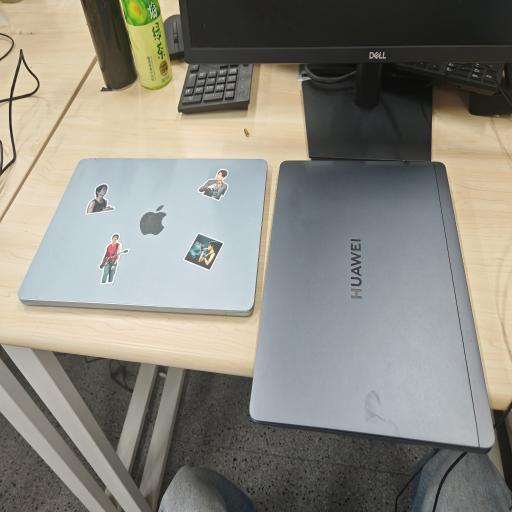laptop: (250, 161, 494, 452), (18, 159, 267, 315)
